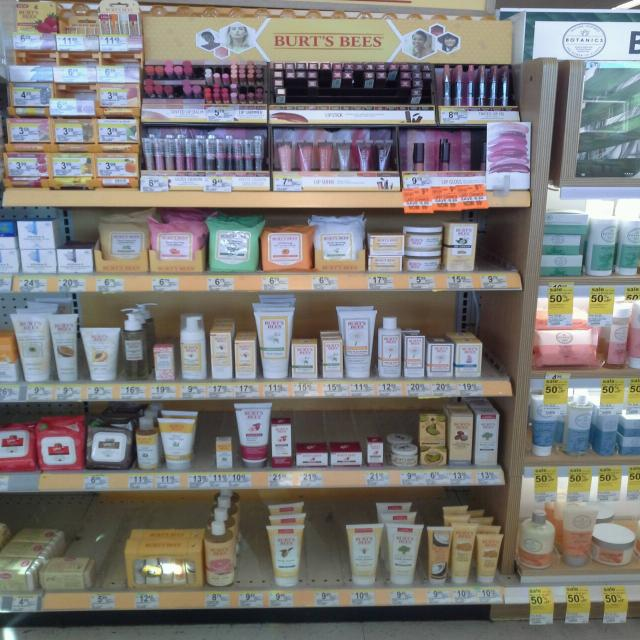void: (312, 507, 347, 612), (480, 222, 523, 292), (484, 313, 518, 394)
